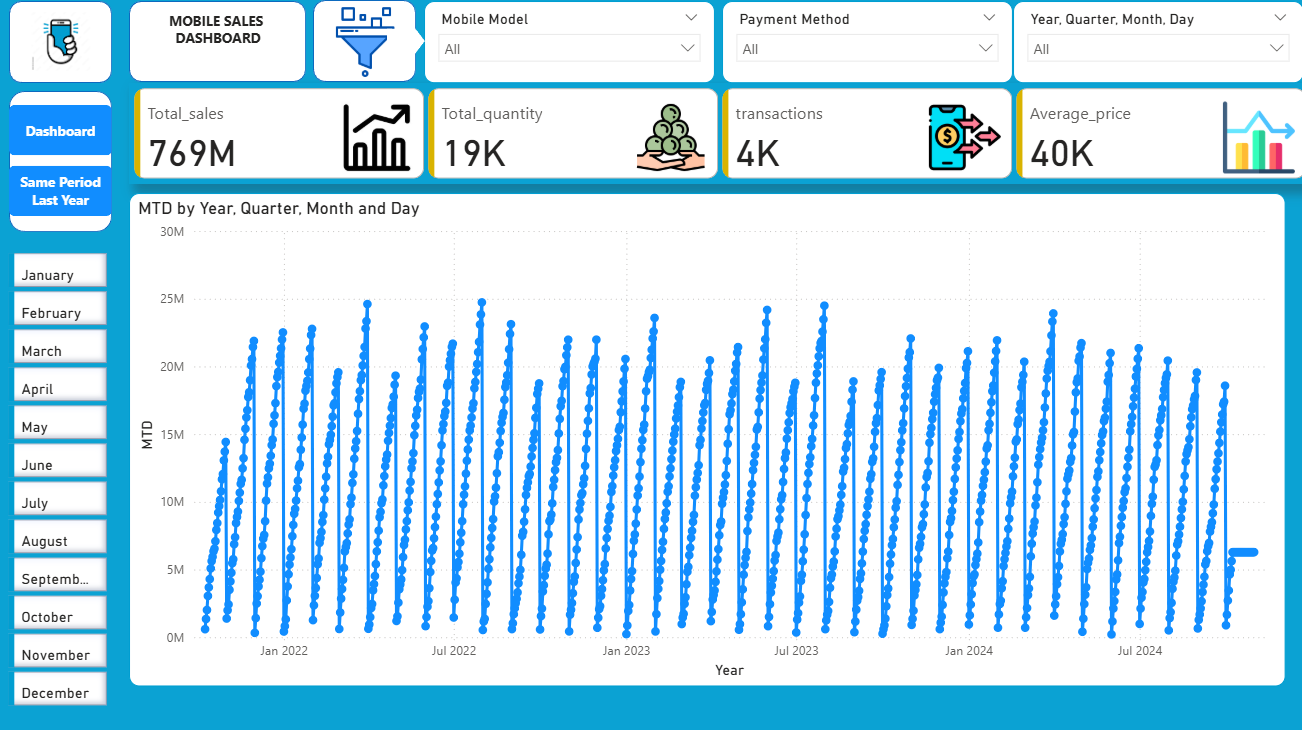

This screenshot's page, from the dashboard's own definition file:
{"tool":"powerbi","page":{"name":"MTD","canvas":[1280,720],"ordinal":1},"visuals":[{"type":"shape","box":[9.7,6.8,100.2,79.8],"z":0},{"type":"image","box":[9.7,12.6,100.2,67.1],"z":1000},{"type":"shape","box":[9.7,94.3,100.2,137.1],"z":2000},{"type":"cardVisual","fields":{"Data":["mobile_sales.Total_sales","mobile_sales.Total_quantity","mobile_sales.transactions","mobile_sales.Average_price"]},"box":[126.4,86.6,1153.6,98.2],"z":3000},{"type":"slicer","fields":{"Values":["mobile_sales.Mobile Model"]},"box":[413.4,6.8,283,79.8],"z":4000},{"type":"slicer","fields":{"Values":["mobile_sales.Payment Method"]},"box":[703.2,6.8,283,79.8],"z":5000},{"type":"slicer","fields":{"Values":["custom_calender.Date.Variation.Date Hierarchy.Year","custom_calender.Date.Variation.Date Hierarchy.Quarter","custom_calender.Date.Variation.Date Hierarchy.Month","custom_calender.Date.Variation.Date Hierarchy.Day"]},"box":[986.3,6.8,283,79.8],"z":6000},{"type":"shape","box":[305.4,5.8,100.2,79.8],"z":7000},{"type":"image","box":[316.1,6.8,79.8,80.7],"z":8000},{"type":"shape","box":[377.4,21.4,37,48.6],"z":9000},{"type":"shape","box":[126.4,6.8,172.2,78.8],"z":10000},{"type":"textbox","box":[132.3,11.7,161.5,58.4],"z":11000},{"type":"lineChart","fields":{"Y":["mobile_sales.MTD"],"Category":["custom_calender.Date.Variation.Date Hierarchy.Year","custom_calender.Date.Variation.Date Hierarchy.Quarter","custom_calender.Date.Variation.Date Hierarchy.Month","custom_calender.Date.Variation.Date Hierarchy.Day"]},"box":[126.4,193.6,1125.3,480.5],"z":12000},{"type":"advancedSlicerVisual","fields":{"Values":["custom_calender.Date.Variation.Date Hierarchy.Month"]},"box":[3.9,247.1,106,453.3],"z":13000},{"type":"pageNavigator","box":[9.7,108,100.2,109.9],"z":14000}]}

Visuals, with their boxes in screenshot pixels (x1, y1, x2, y2), scaled from the page's 1280x720 canvas onto the 1302x730 screenshot:
shape: box(10, 7, 112, 88)
image: box(10, 13, 112, 81)
shape: box(10, 96, 112, 235)
cardVisual - mobile_sales.Total_sales x mobile_sales.Total_quantity: box(129, 88, 1301, 187)
slicer - mobile_sales.Mobile Model: box(421, 7, 708, 88)
slicer - mobile_sales.Payment Method: box(715, 7, 1003, 88)
slicer - custom_calender.Date.Variation.Date Hierarchy.Year x custom_calender.Date.Variation.Date Hierarchy.Quarter: box(1003, 7, 1291, 88)
shape: box(311, 6, 413, 87)
image: box(322, 7, 403, 89)
shape: box(384, 22, 422, 71)
shape: box(129, 7, 304, 87)
textbox: box(135, 12, 299, 71)
lineChart - mobile_sales.MTD x custom_calender.Date.Variation.Date Hierarchy.Year: box(129, 196, 1273, 683)
advancedSlicerVisual - custom_calender.Date.Variation.Date Hierarchy.Month: box(4, 251, 112, 710)
pageNavigator: box(10, 110, 112, 221)
